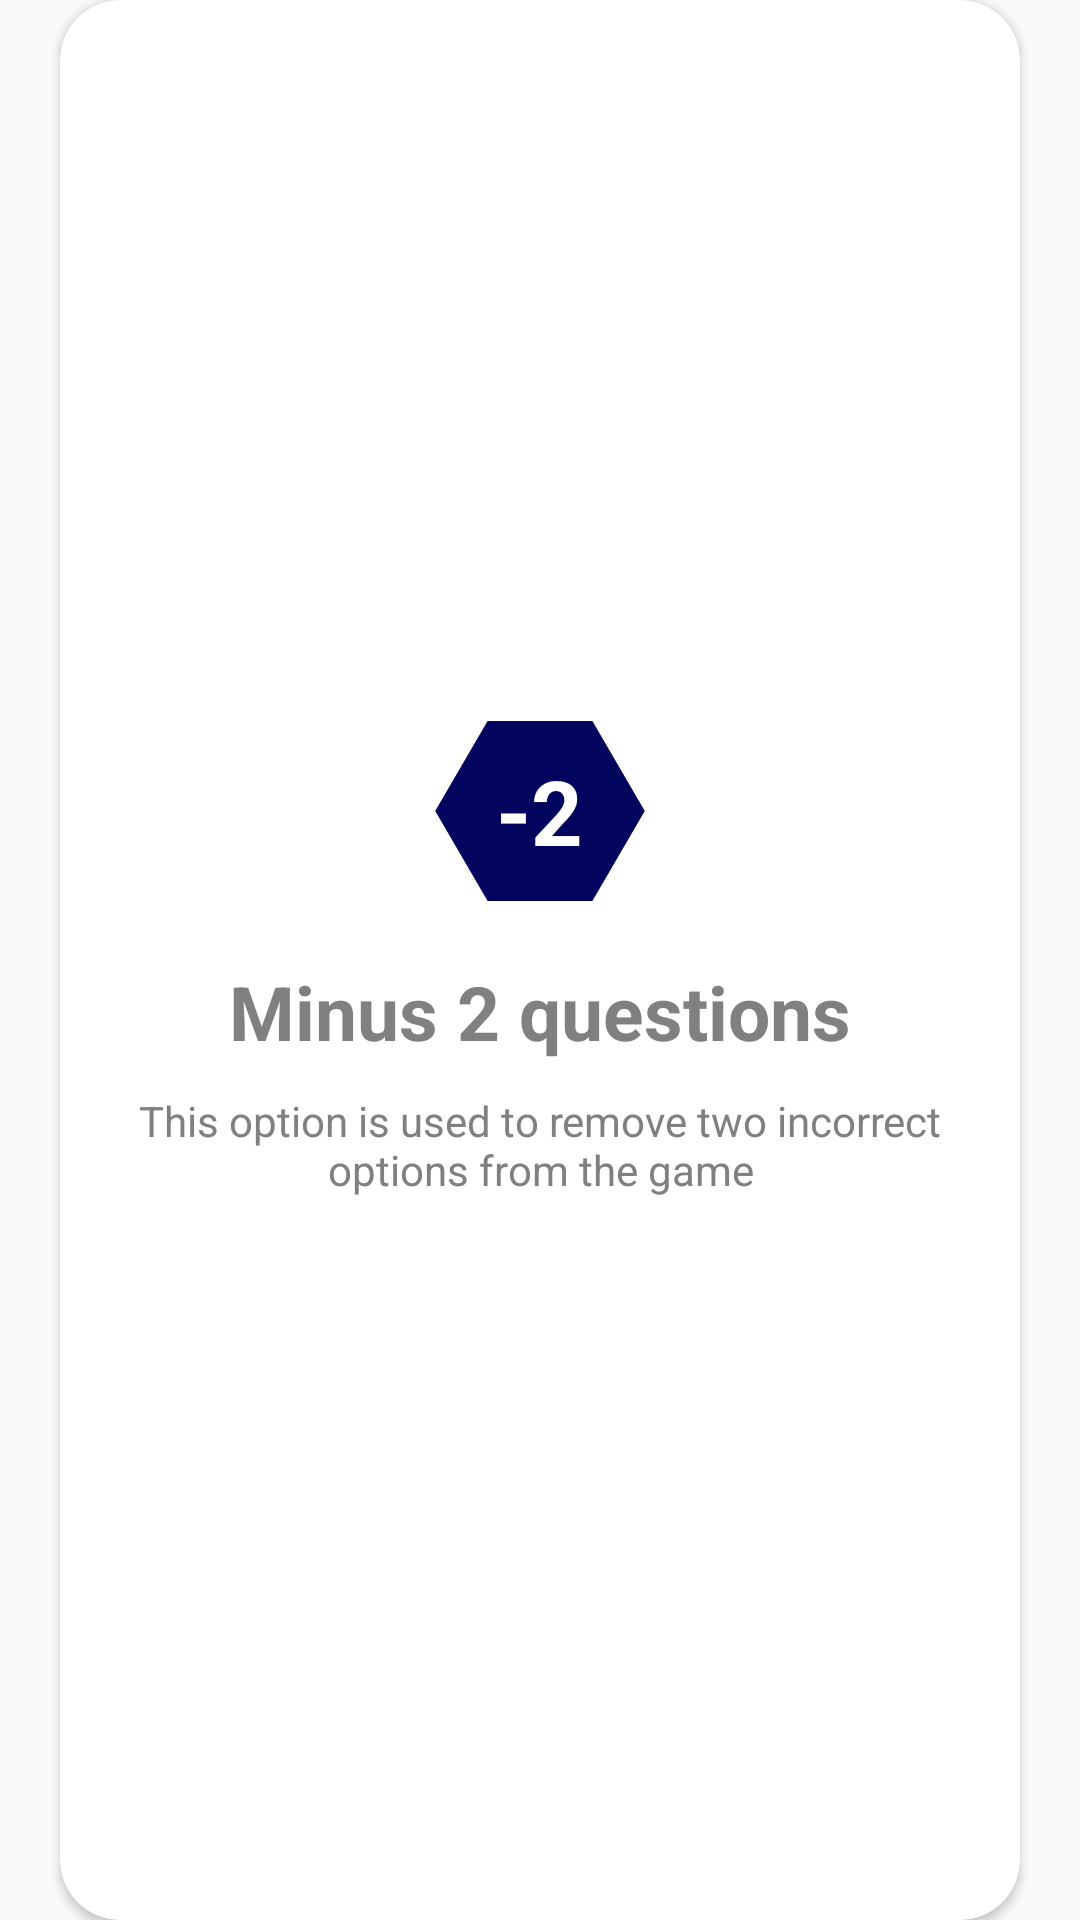

Named icons in this screenshot (1080 x 1920) and their bounding boxes, (x1, y1, x2, y2):
hexagon: (435, 721, 645, 901)
